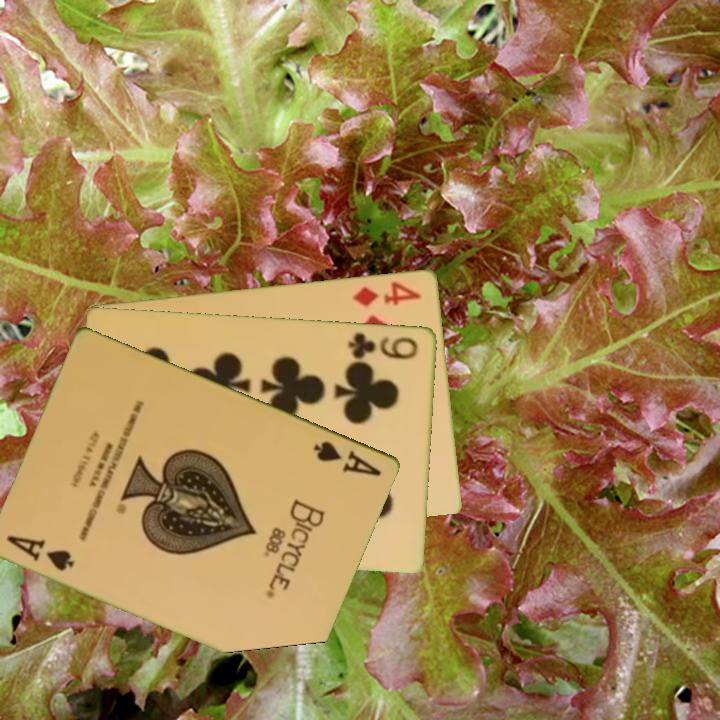4d: (349, 277, 424, 309)
9c: (345, 328, 421, 362)
As: (3, 531, 78, 574), (310, 437, 385, 479)
